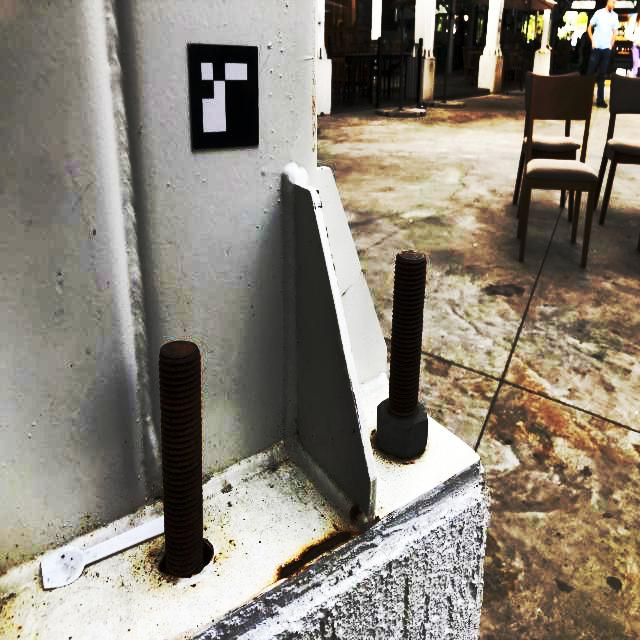Corrosion: (159, 341, 214, 579), (388, 251, 427, 419), (274, 529, 363, 582), (349, 503, 361, 525), (326, 226, 329, 239), (333, 262, 336, 273), (319, 47, 322, 58), (493, 48, 498, 54), (316, 190, 319, 195)
